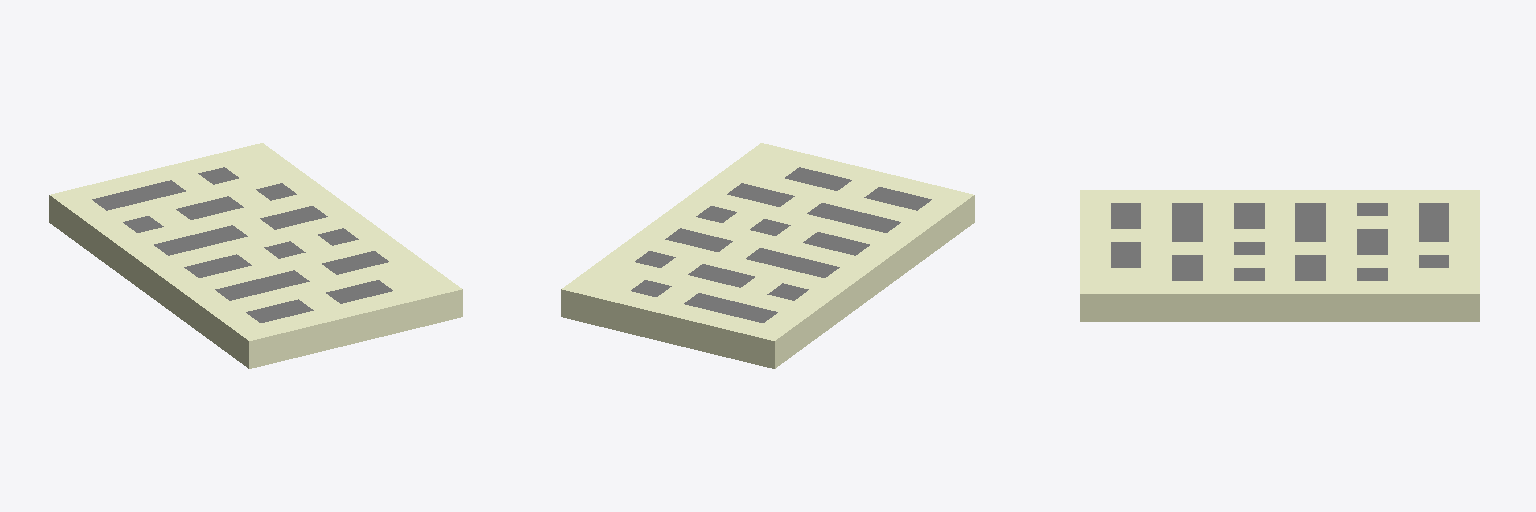
3 renders of one model, left to right at view 1: azimuth 30°, elevation 25°; view 2: azimuth 150°, elevation 25°; view 3: azimuth 270°, elevation 25°, orthographic.
Visible parts, largest first — view 1: object 1; view 2: object 1; view 3: object 1.
Part boxes in pixels (x1,y1,x2,y2): object 1: (49,143,462,368); object 1: (561,143,974,368); object 1: (1080,190,1479,321).
Bounding box in the file's own units: 0.8 × 0.1 × 1.3.
1 materials, 1 textured.